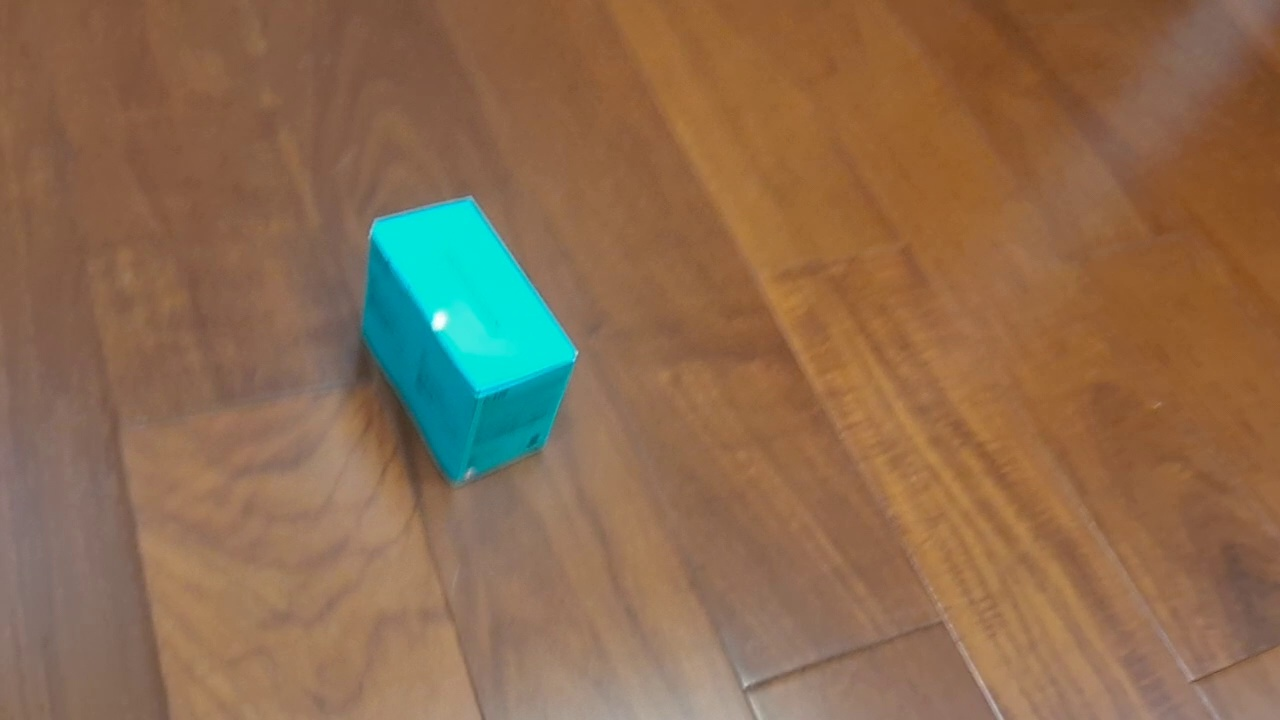webcam: (360, 195, 579, 489)
